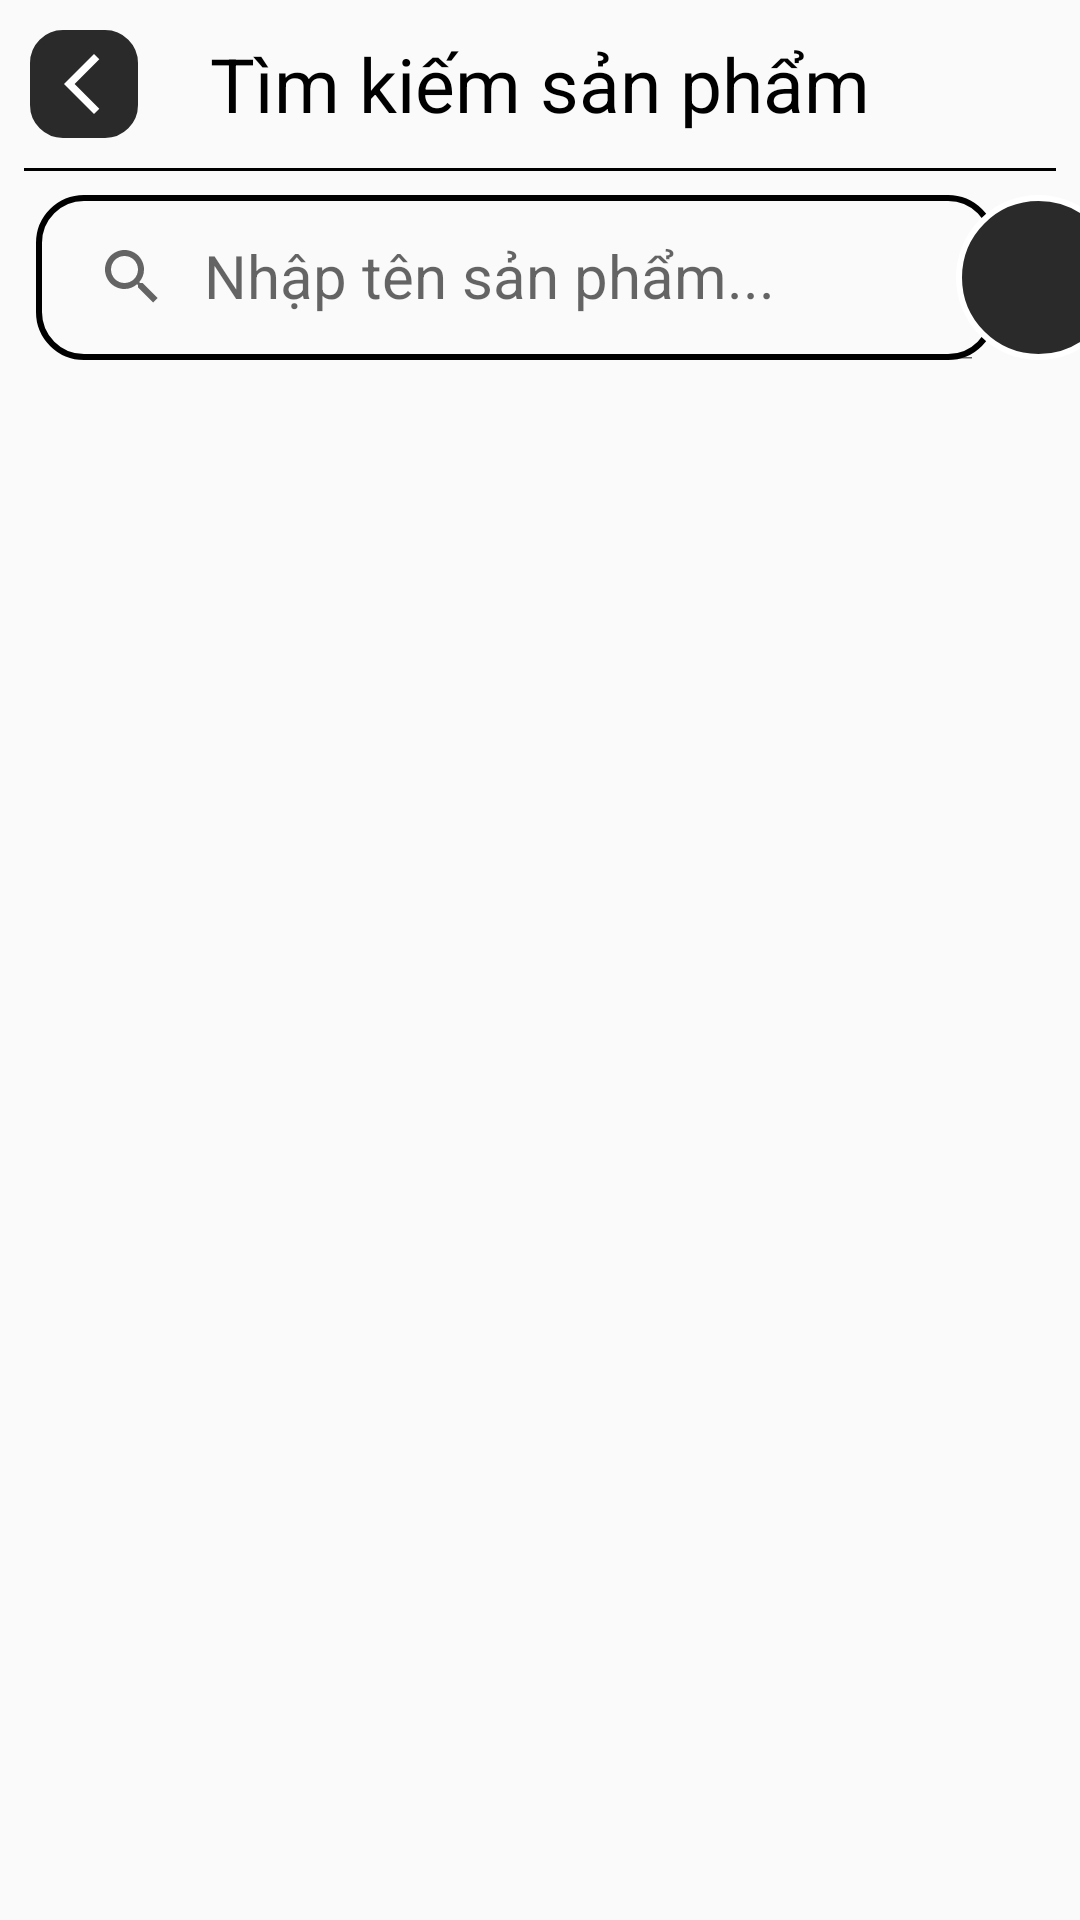

Screen size 1080w x 1920h. Icon name, then its box in pixels as (x1, y1, x2, y2):
back: (64, 54, 99, 114)
